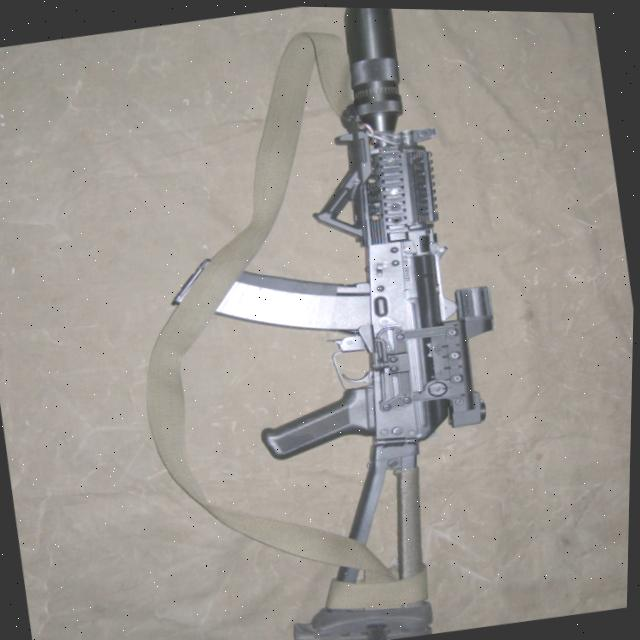firearm: (128, 2, 549, 640)
